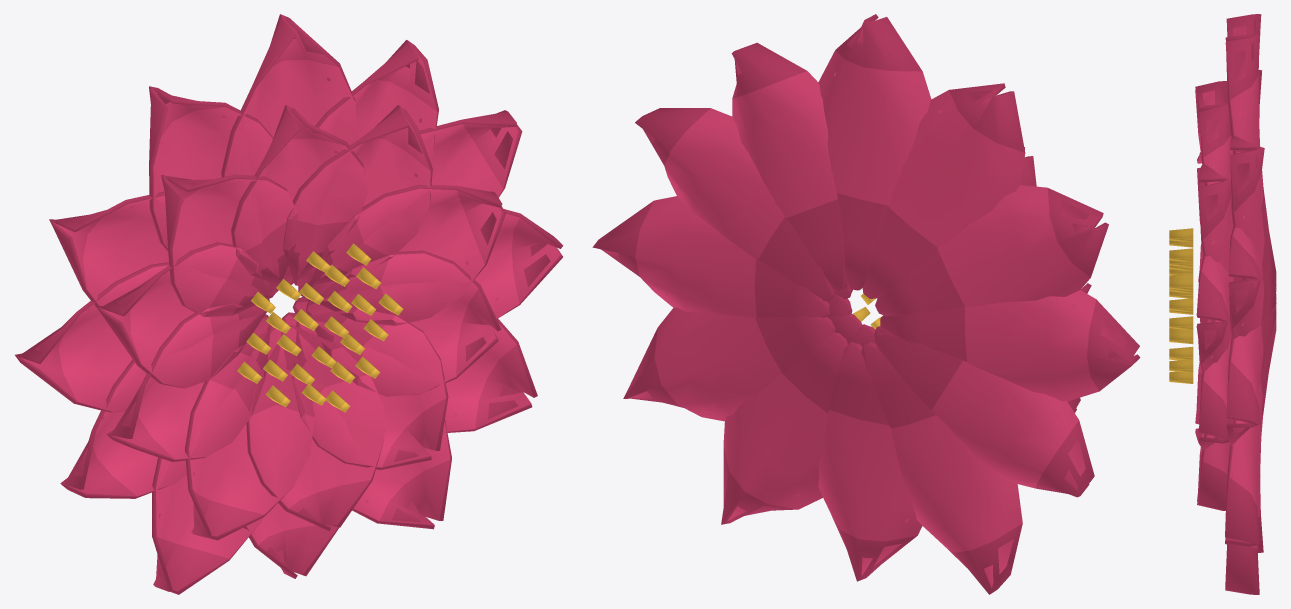
File: garden-zinnia-bloom-head-3.glb
3 views of the same model, side by side, from view 1: azimuth 30°, elevation 25°; view 2: azimuth 150°, elevation 25°; view 3: azimuth 270°, elevation 25° (orthographic). The views are drawn at different scales.
Visible parts, largest first — view 1: zinnia-bloom-head-3; view 2: zinnia-bloom-head-3; view 3: zinnia-bloom-head-3.
Boxes of the visible parts, x1=… form: zinnia-bloom-head-3: x1=15, y1=14, x2=563, y2=594; zinnia-bloom-head-3: x1=592, y1=14, x2=1140, y2=594; zinnia-bloom-head-3: x1=1169, y1=14, x2=1276, y2=594.
Bounding box in the file's own units: 0.1905 × 0.1898 × 0.0357.
